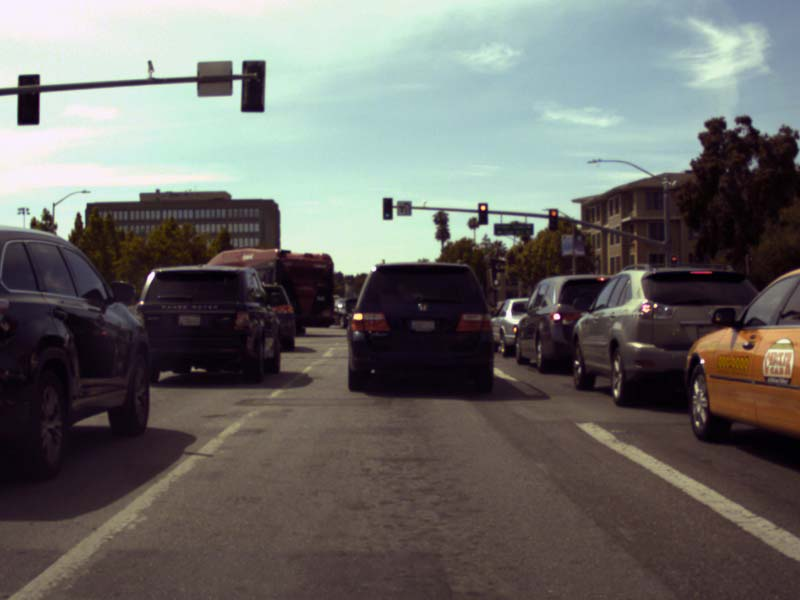Green: (383, 199, 391, 218)
Red: (549, 210, 557, 230), (479, 204, 486, 223), (670, 255, 677, 273)
